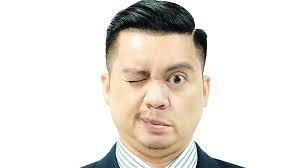strokeMouthMid: (136, 111, 176, 135)
